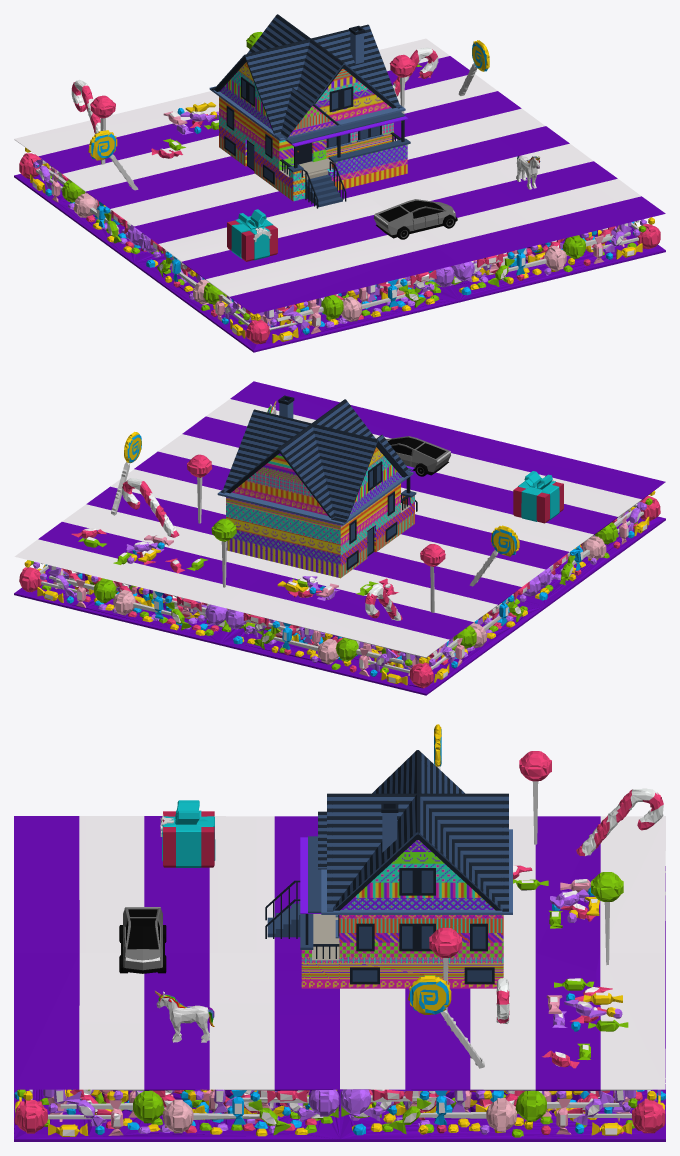
3 views of the same model, one above another, from view 1: azimuth 30°, elevation 25°; view 2: azimuth 150°, elevation 25°; view 3: azimuth 270°, elevation 25° (orthographic). The views are drawn at different scales.
Parts seen in each view (by area): view 1: TERRAIN_CANDY, Cube.676, VEHICLES_CYBERTRUCK, OBJRANDOM_GIANT_PRESENT, ANIMAL_UNICORNIO; view 2: TERRAIN_CANDY, Cube.676, OBJRANDOM_GIANT_PRESENT, VEHICLES_CYBERTRUCK; view 3: TERRAIN_CANDY, Cube.676, OBJRANDOM_GIANT_PRESENT, VEHICLES_CYBERTRUCK, ANIMAL_UNICORNIO.
Boxes of the visible parts, <box> form: TERRAIN_CANDY: <box>14,31,665,352</box>; Cube.676: <box>209,14,410,208</box>; VEHICLES_CYBERTRUCK: <box>373,199,457,239</box>; OBJRANDOM_GIANT_PRESENT: <box>227,209,277,261</box>; ANIMAL_UNICORNIO: <box>516,155,540,189</box>; TERRAIN_CANDY: <box>14,381,665,695</box>; Cube.676: <box>217,395,417,578</box>; OBJRANDOM_GIANT_PRESENT: <box>513,471,563,523</box>; VEHICLES_CYBERTRUCK: <box>386,436,450,476</box>; TERRAIN_CANDY: <box>14,724,665,1141</box>; Cube.676: <box>265,750,512,988</box>; OBJRANDOM_GIANT_PRESENT: <box>160,800,215,867</box>; VEHICLES_CYBERTRUCK: <box>119,907,166,973</box>; ANIMAL_UNICORNIO: <box>155,991,214,1042</box>.
Size of the model in its own units: 4059 by 1534 by 4000.
Materials: 33 (7 with a texture image).
